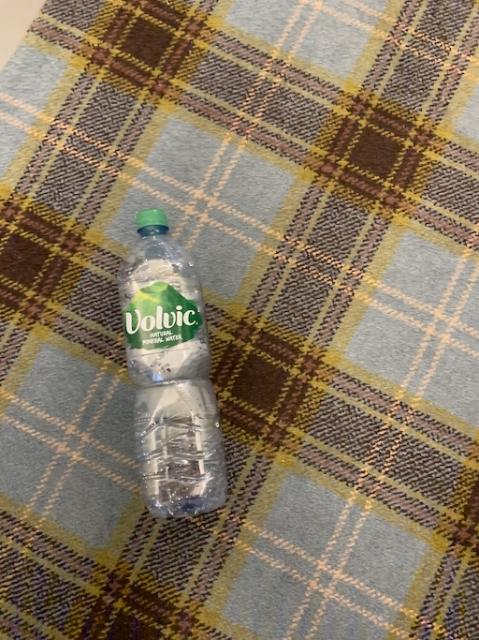plastic: (117, 208, 226, 515)
